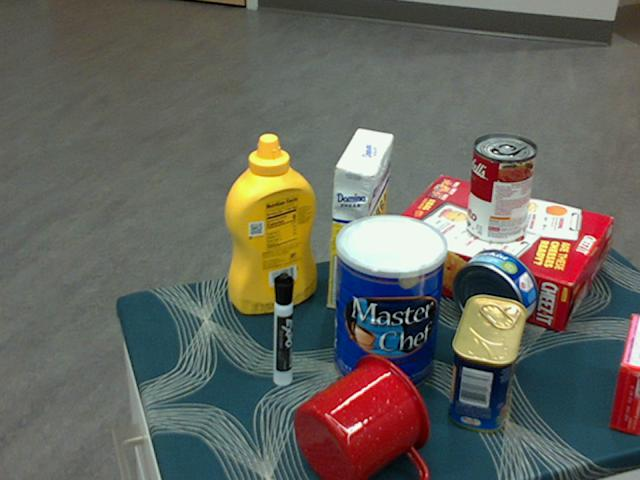cracker_box: (382, 177, 610, 329)
gelatin_box: (608, 315, 639, 435)
large_marker: (271, 272, 292, 387)
master_chef_can: (334, 214, 449, 395)
mug: (293, 354, 431, 479)
mustard_bottle: (224, 134, 316, 314)
potted_meat_can: (449, 295, 527, 433)
sugar_box: (326, 129, 394, 316)
tomato_soup_can: (467, 135, 537, 245)
tuna_fish_can: (453, 248, 539, 334)
